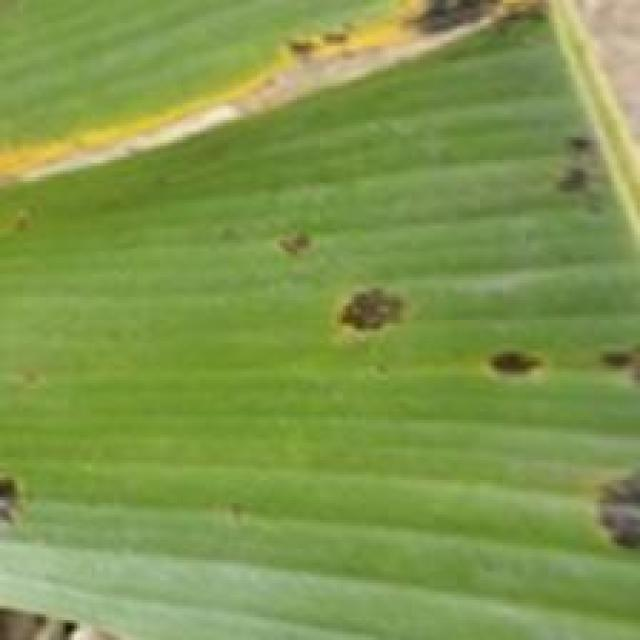Downey_mildrew: (1, 69, 316, 175), (263, 2, 572, 82), (299, 274, 423, 362), (483, 346, 640, 403), (0, 589, 128, 640), (541, 137, 612, 219), (589, 462, 640, 556), (0, 459, 38, 546), (271, 218, 320, 265)
